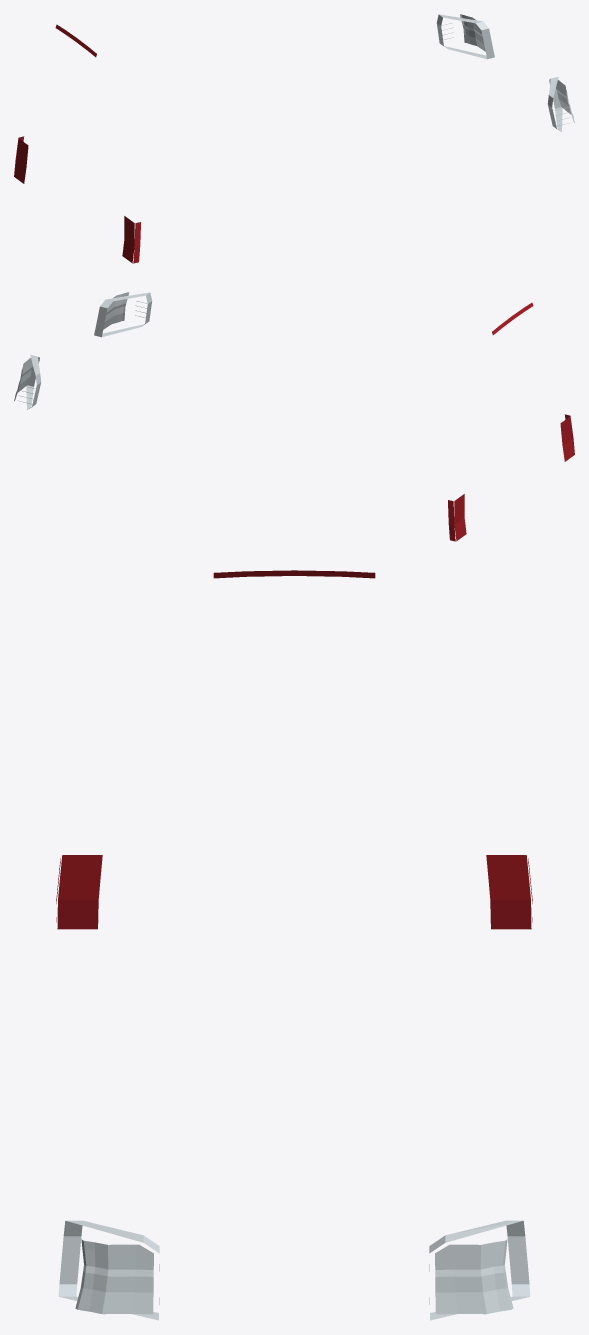
Rendered from kei-atrai-s220-d4dd4335-lamps.glb.
3 views of the same model, one above another, from view 1: azimuth 30°, elevation 25°; view 2: azimuth 150°, elevation 25°; view 3: azimuth 270°, elevation 25° (orthographic). The views are drawn at different scales.
Parts seen in each view (by area): view 1: Left_Headlight_Reflector, Right_Tail_Lens, Left_Tail_Lens; view 2: Right_Headlight_Reflector, Left_Tail_Lens, Right_Tail_Lens; view 3: Left_Headlight_Reflector, Right_Headlight_Reflector, Left_Tail_Lens, Right_Tail_Lens, Rear_High_Stop.
Part boxes in pixels (x1,y1,x2,y2): Left_Headlight_Reflector: (459, 14, 485, 51); Right_Tail_Lens: (122, 216, 134, 263); Left_Tail_Lens: (14, 138, 28, 183); Right_Headlight_Reflector: (103, 292, 129, 329); Left_Tail_Lens: (454, 494, 466, 541); Right_Tail_Lens: (560, 416, 574, 461); Left_Headlight_Reflector: (435, 1239, 513, 1314); Right_Headlight_Reflector: (75, 1239, 153, 1314); Left_Tail_Lens: (486, 855, 531, 929); Right_Tail_Lens: (57, 855, 102, 929); Rear_High_Stop: (213, 570, 375, 578).
Size of the model in its own units: 3.25 by 1.23 by 1.47.
